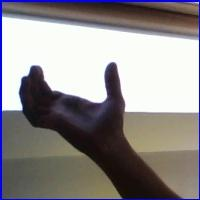space: (22, 58, 140, 163)
